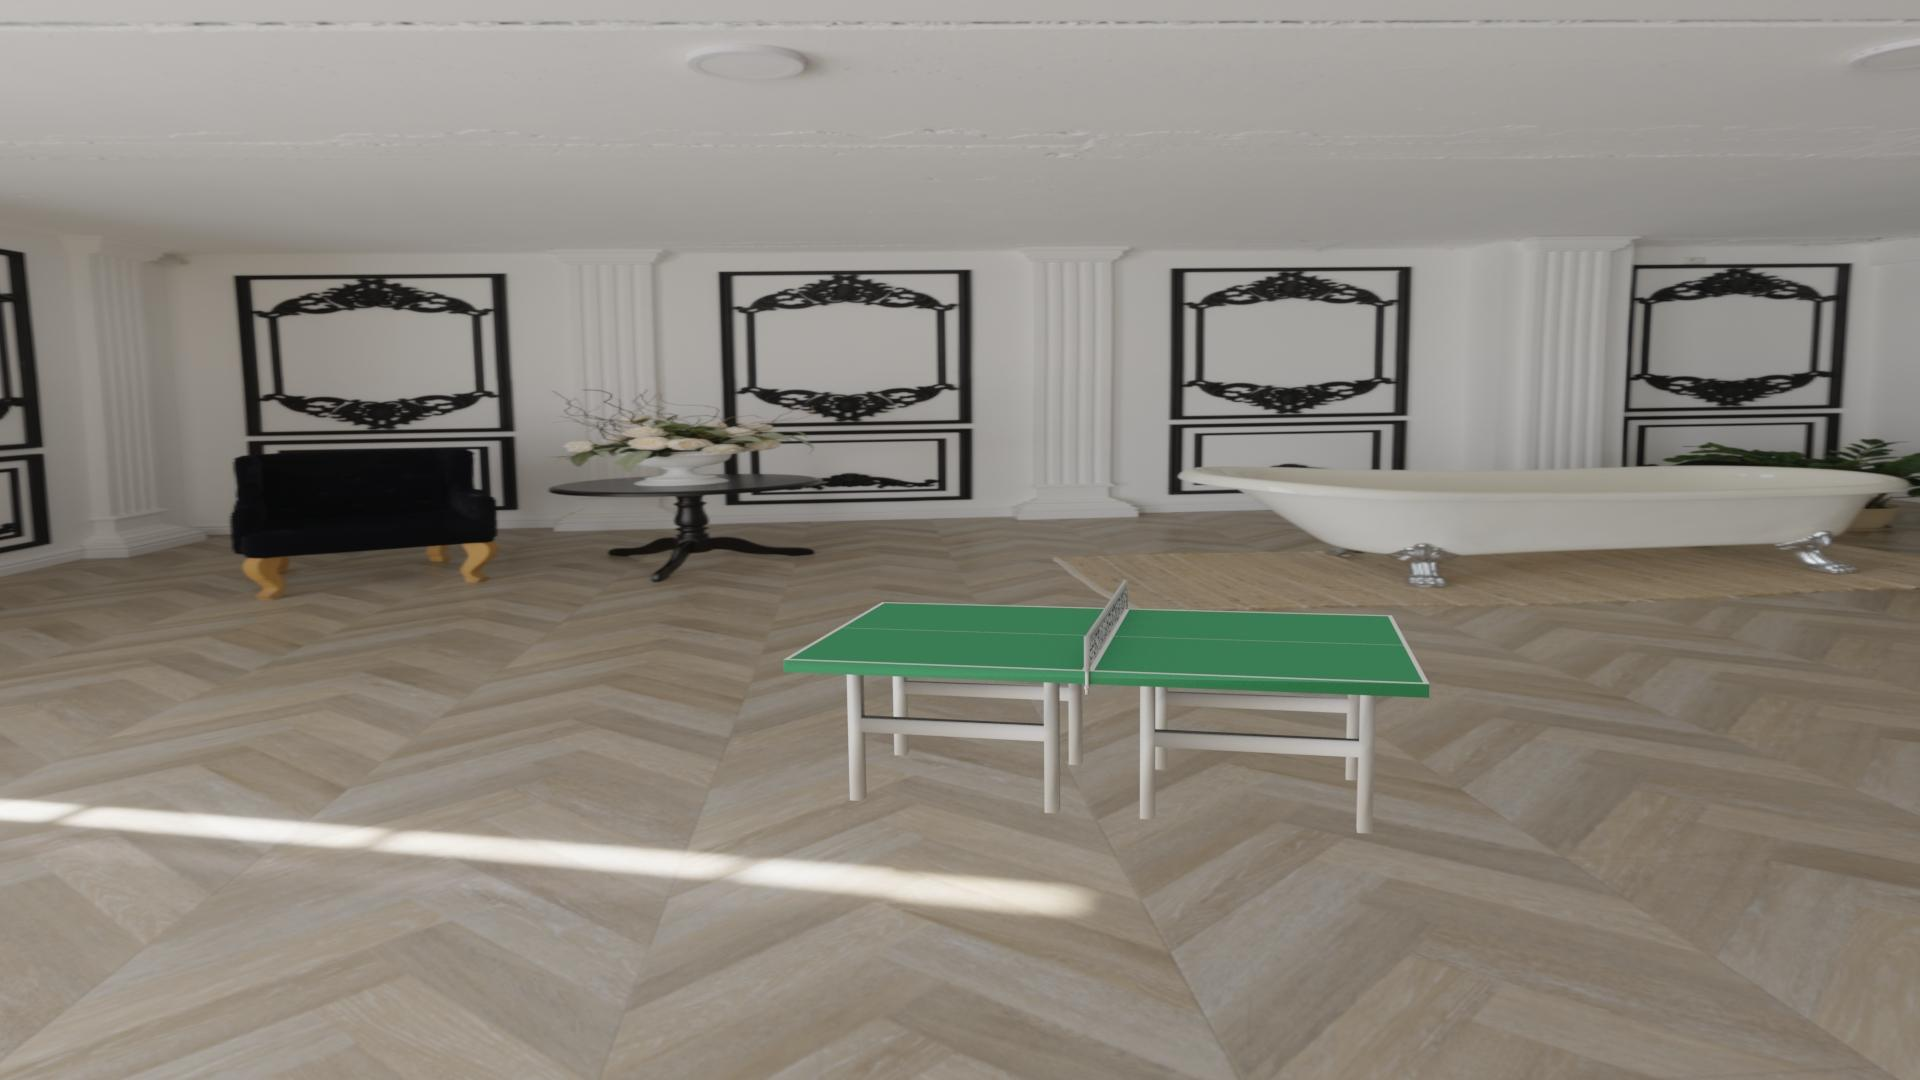table: (789, 603, 1424, 683)
